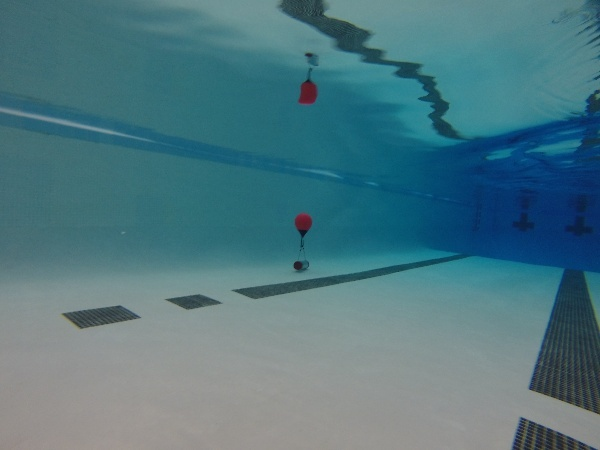buoy_red: (293, 212, 314, 239)
